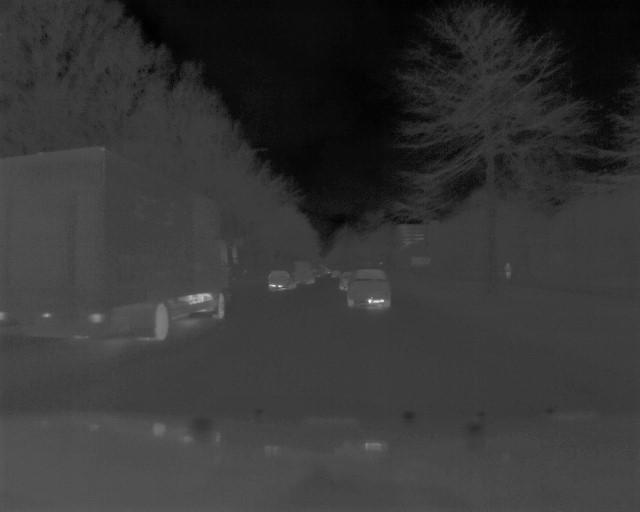car: (347, 265, 395, 317), (265, 268, 297, 291)
person: (501, 258, 514, 281)
